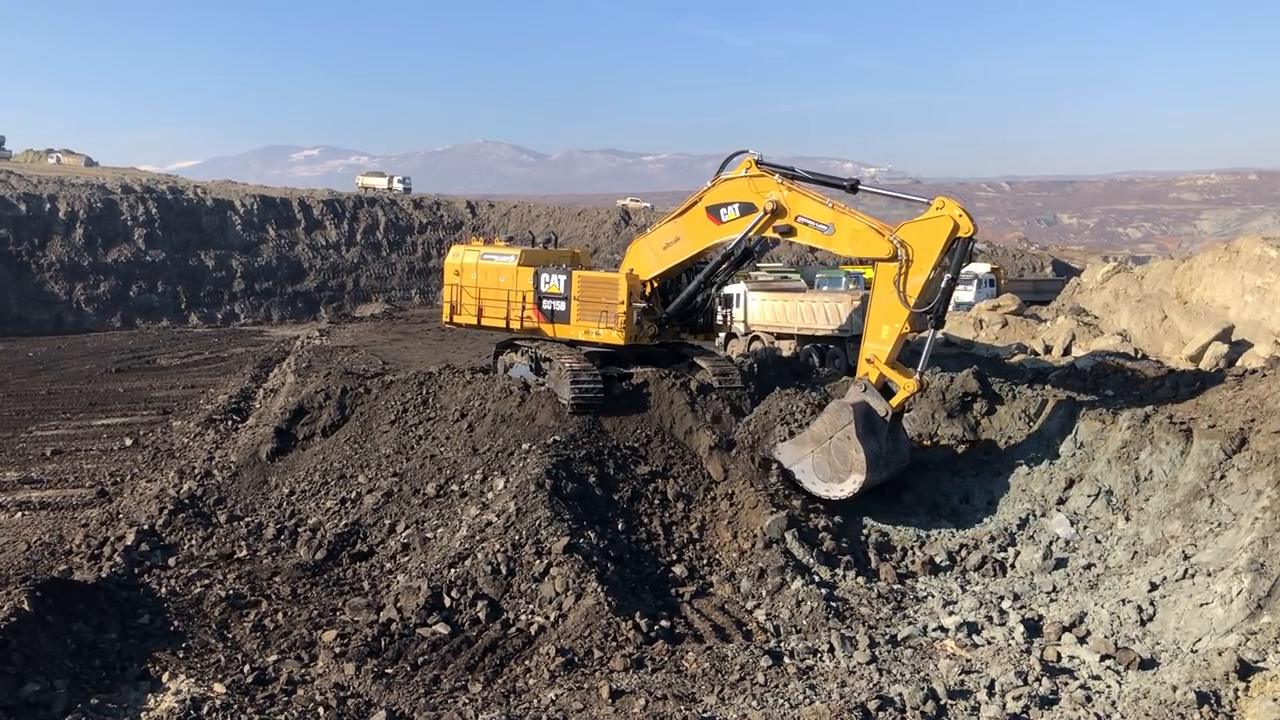full: (748, 379, 916, 501)
